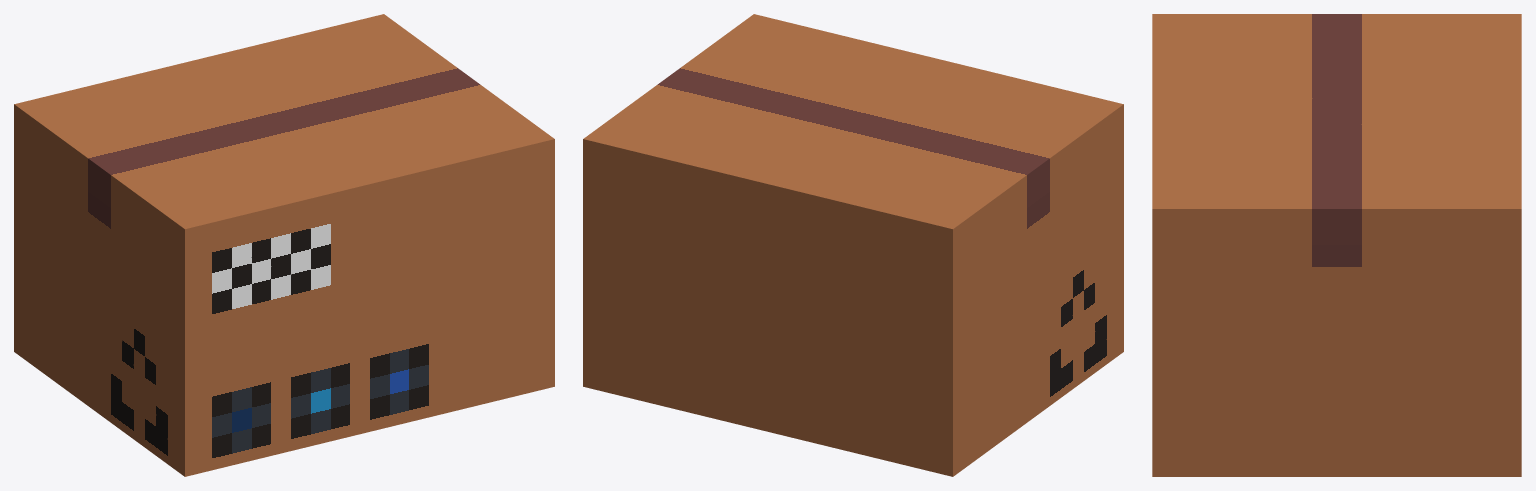
File: package.glb
The picture shows the model from 3 angles, left to right: view 1: azimuth 30°, elevation 25°; view 2: azimuth 150°, elevation 25°; view 3: azimuth 270°, elevation 25°; orthographic projection. The views are drawn at different scales.
Visible parts, largest first — view 1: Cube; view 2: Cube; view 3: Cube.
Boxes of the visible parts, x1,y1,x2,y2 form: Cube: (14, 14, 554, 476); Cube: (583, 14, 1123, 476); Cube: (1152, 14, 1521, 476).
Bounding box in the file's own units: 0.56 × 0.3584 × 0.448.
Materials: 1 (1 with a texture image).
